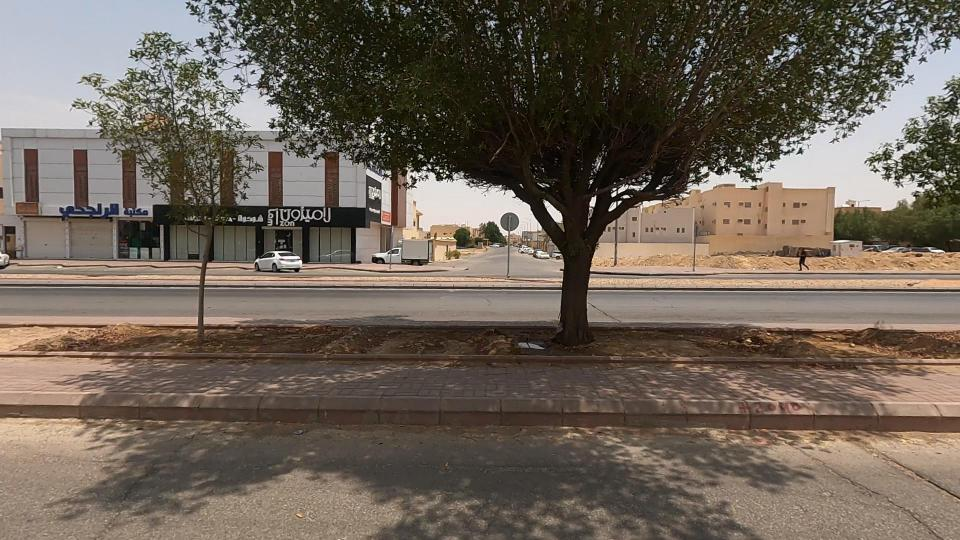CLUTTER_SIDEWALK: (111, 283, 553, 393), (548, 290, 936, 391)
GARBAGE: (491, 318, 562, 376)
